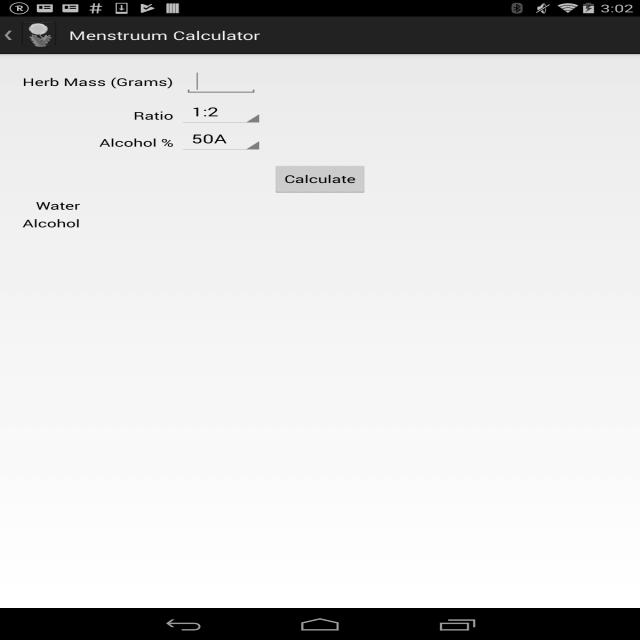Button: (269, 160, 370, 196)
EditText: (178, 67, 274, 98), (181, 101, 269, 127), (182, 130, 264, 156)
ImageView: (21, 20, 54, 49)
TextView: (67, 27, 266, 45), (15, 71, 168, 93), (20, 195, 89, 232)
